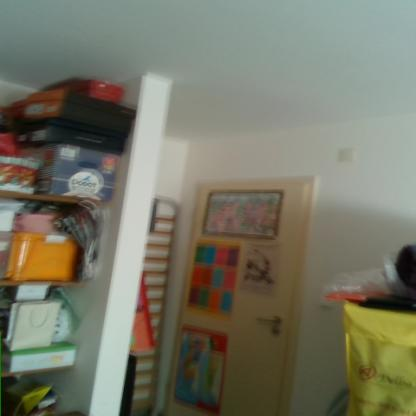closed: (167, 171, 317, 415)
